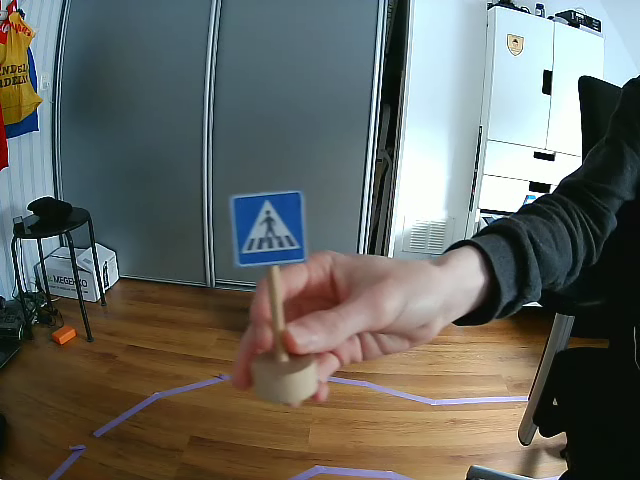zebrapad: (232, 190, 304, 267)
